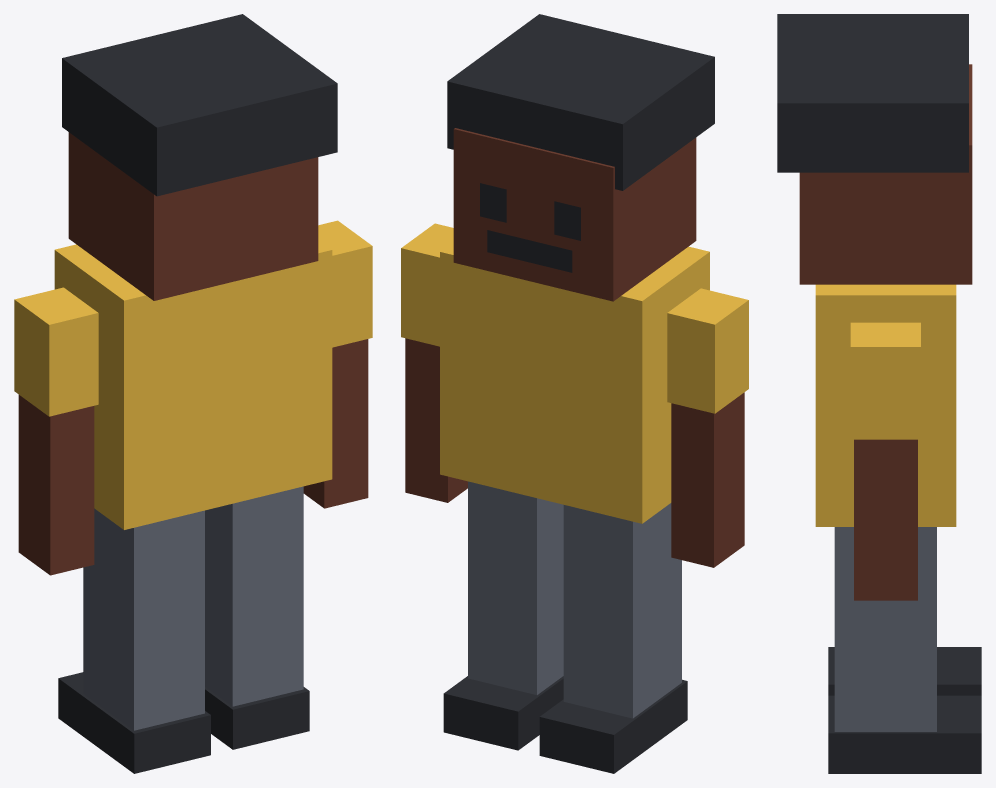
The model's file is H_ManCasual2.fbx.
3 views of the same model, side by side, from view 1: azimuth 30°, elevation 25°; view 2: azimuth 150°, elevation 25°; view 3: azimuth 270°, elevation 25° (orthographic). The views are drawn at different scales.
Visible parts, largest first — view 1: H_ManCasual2; view 2: H_ManCasual2; view 3: H_ManCasual2.
Boxes of the visible parts, x1=… form: H_ManCasual2: x1=14, y1=14, x2=372, y2=773; H_ManCasual2: x1=401, y1=14, x2=748, y2=773; H_ManCasual2: x1=777, y1=14, x2=981, y2=773.
Size of the model in its own units: 0.59 by 1.16 by 0.32.
